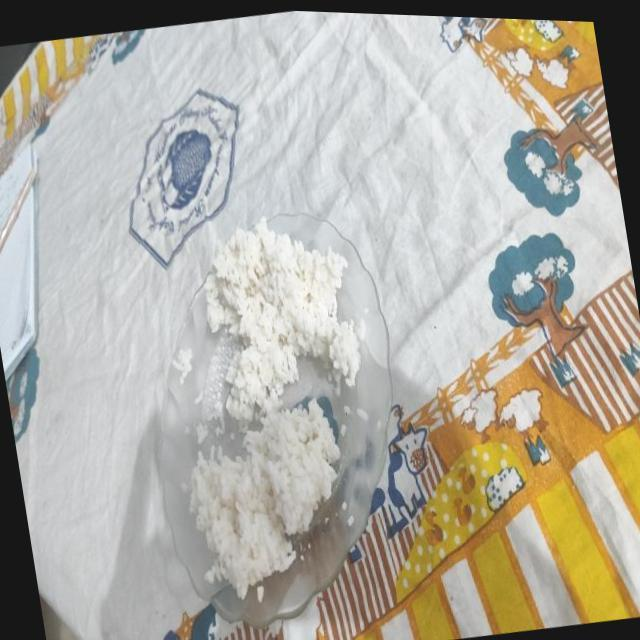nasi_putih: (204, 217, 365, 420), (190, 398, 340, 594)
